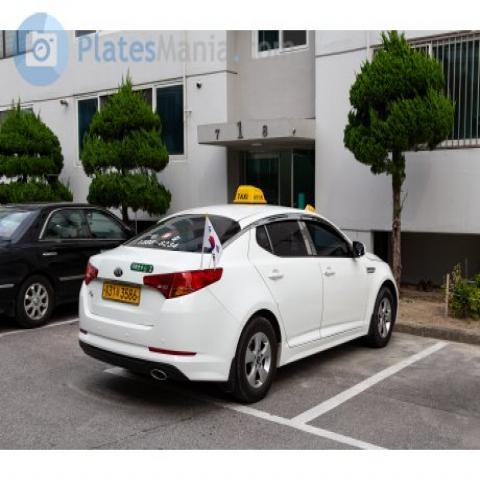LP: (89, 272, 147, 312)
